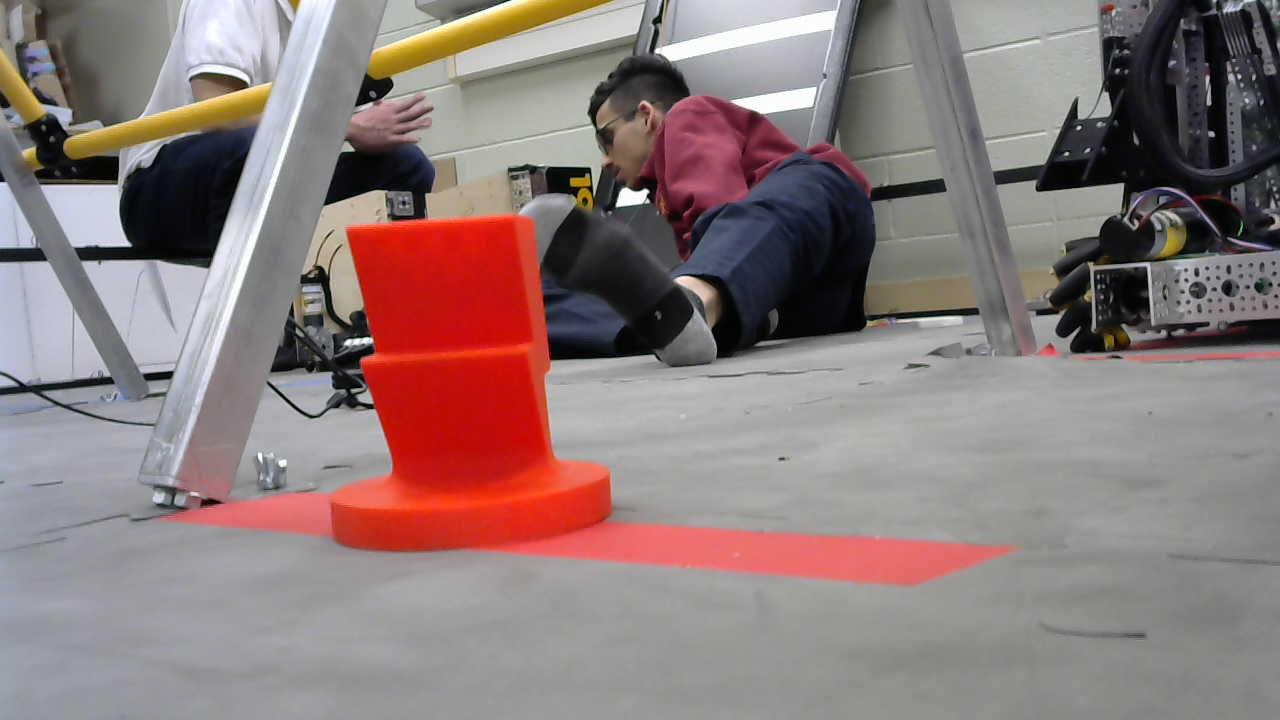redobject: (329, 211, 617, 550)
